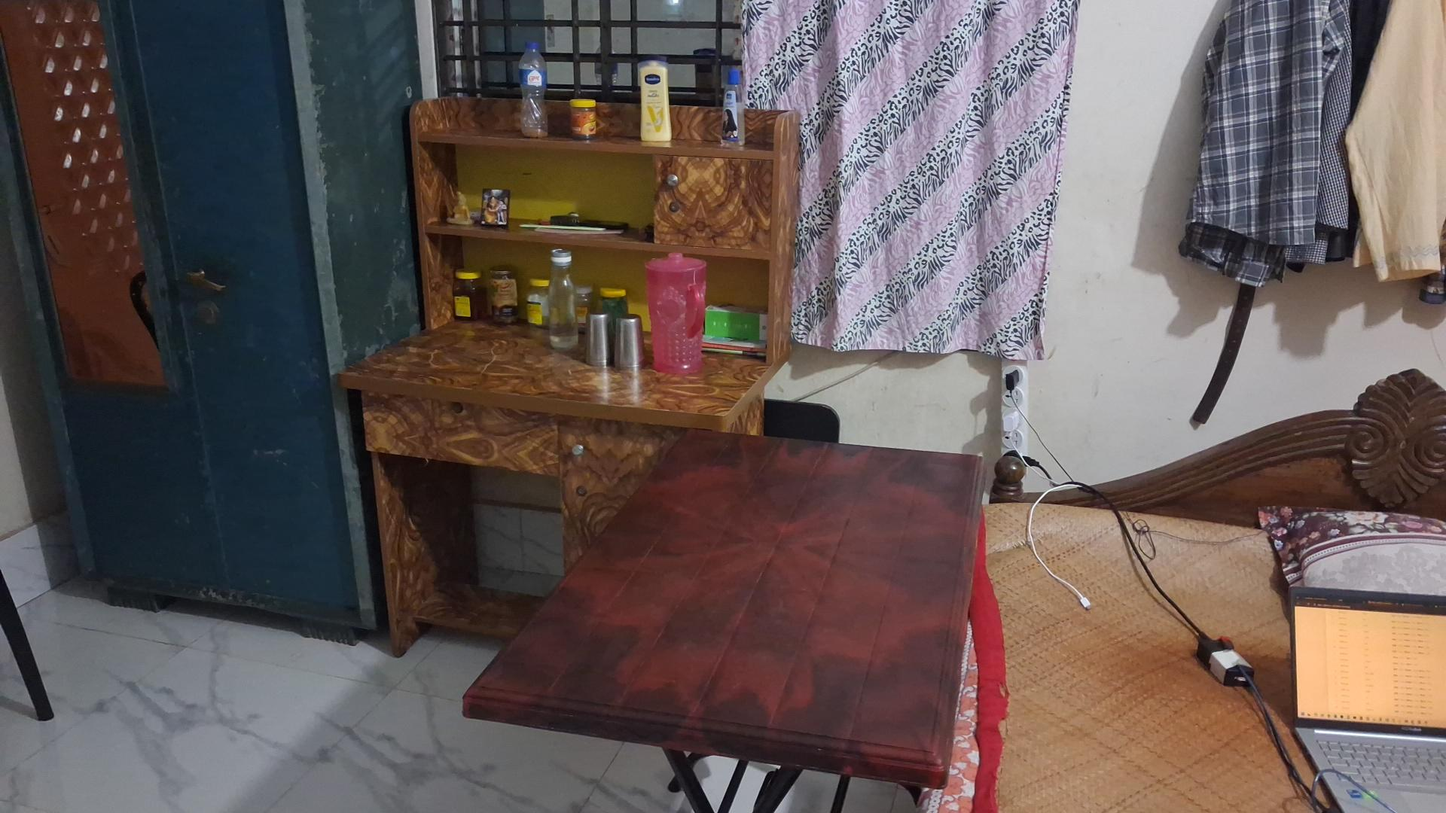Bottle: (635, 56, 672, 142), (546, 247, 575, 350), (518, 41, 548, 136), (721, 71, 746, 149)
Box: (704, 304, 769, 346)
Glass: (612, 315, 641, 373), (582, 312, 612, 367)
Jar: (486, 269, 521, 325), (451, 269, 487, 321), (526, 278, 552, 327), (568, 95, 599, 136)
Jug: (641, 256, 707, 377)
Laptop: (1271, 570, 1446, 813)
Table: (469, 400, 987, 813)
